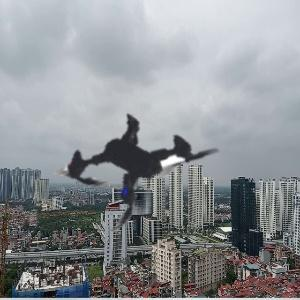drone: (13, 41, 269, 297)
